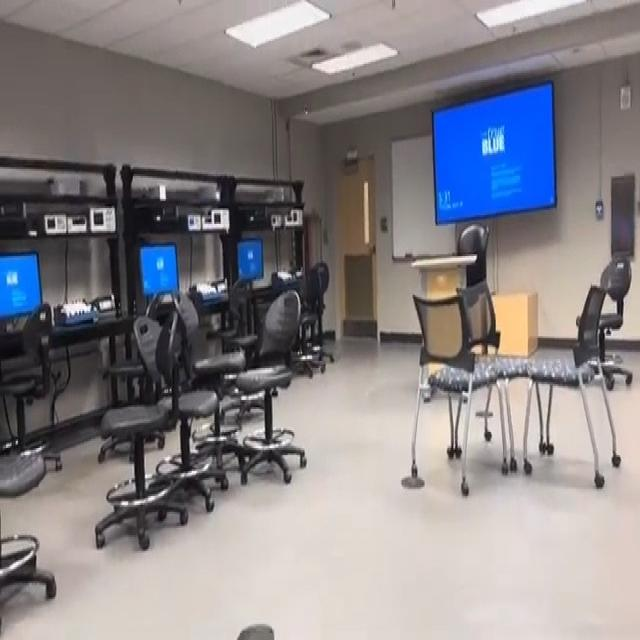drone: (319, 153, 321, 485)
